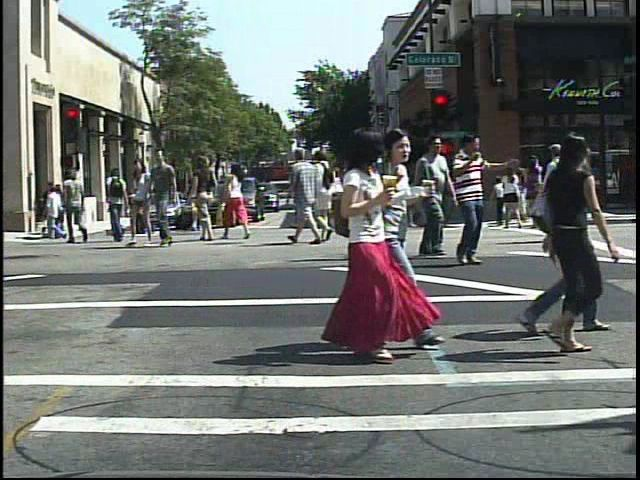person: (519, 129, 633, 366), (314, 125, 411, 369), (530, 132, 614, 338), (446, 128, 505, 271), (353, 134, 402, 265), (409, 136, 456, 261), (541, 133, 586, 249), (376, 127, 416, 255), (148, 147, 187, 252), (290, 142, 322, 244), (125, 159, 160, 252), (190, 152, 221, 249), (312, 148, 341, 248), (223, 154, 253, 244), (61, 166, 92, 245), (104, 164, 131, 243), (499, 161, 527, 232), (334, 161, 355, 230)
